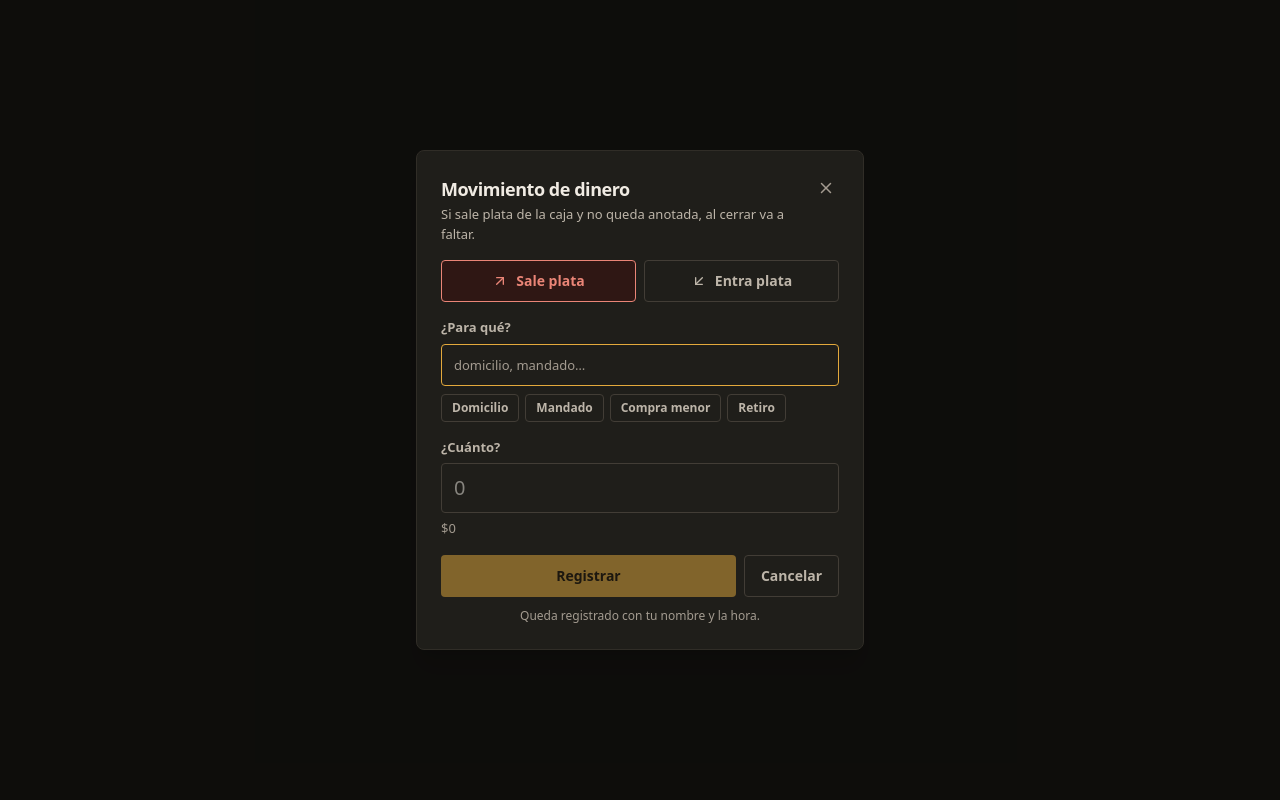
Test: el monto › ignora letras
The width and height of the screenshot is (1280, 800).
Type "12a3b45" into the field labelled "¿Cuánto? $0" at (640, 488), box [441, 463, 839, 513]
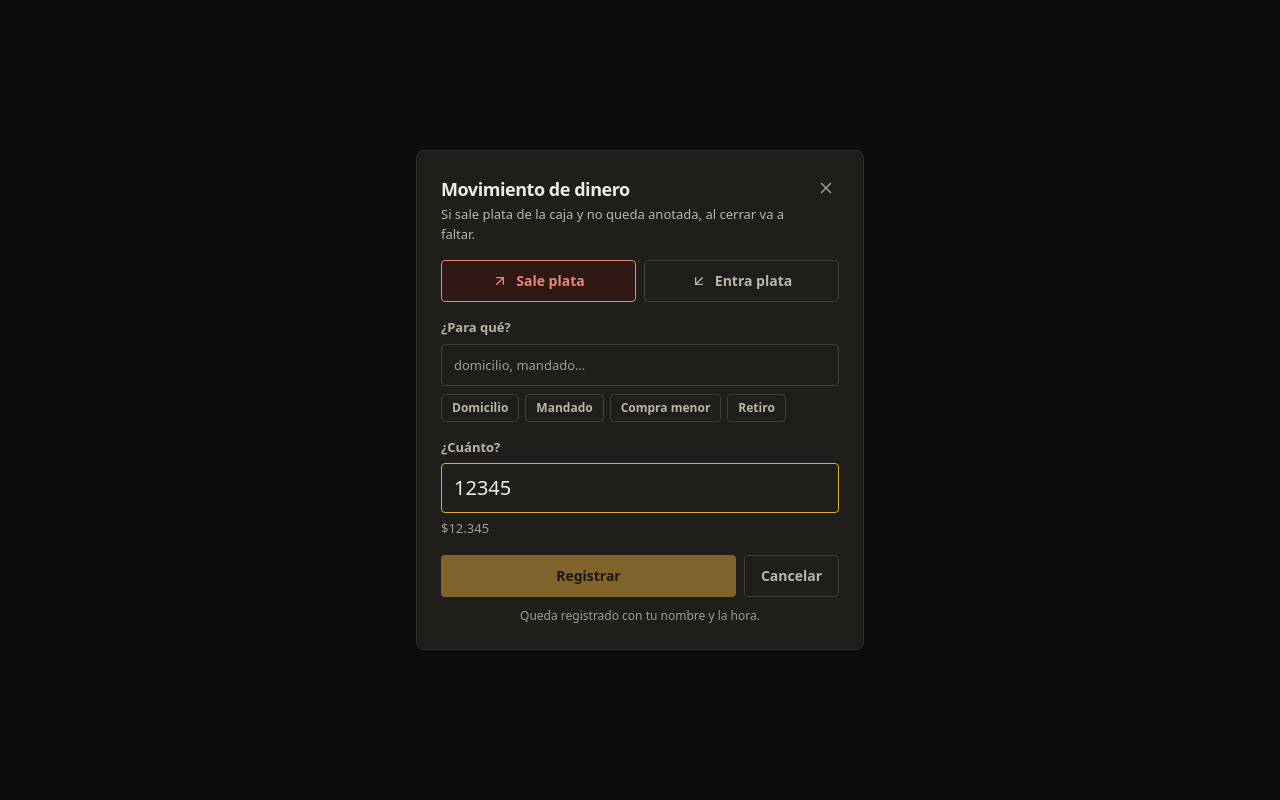
Now the field labelled "¿Cuánto? $12.345" holds "12345", box [441, 463, 839, 513]
